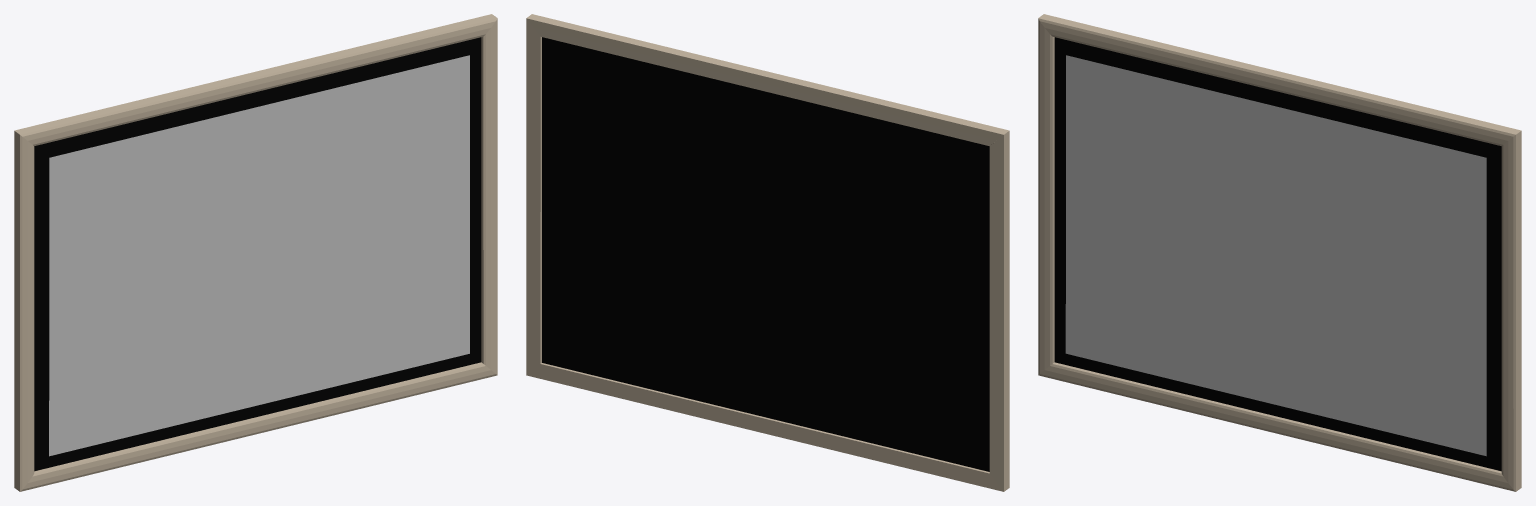
File: EtretatFrame.obj
3 renders of one model, left to right at view 1: azimuth 30°, elevation 25°; view 2: azimuth 150°, elevation 25°; view 3: azimuth 330°, elevation 25°, orthographic.
Visible parts, largest first — view 1: Photo_Cube, MetalFrame_Cylinder, Frame_Black; view 2: Frame_Black, MetalFrame_Cylinder; view 3: Photo_Cube, MetalFrame_Cylinder, Frame_Black.
Part boxes in pixels (x1,y1,x2,y2): Photo_Cube: [49, 55, 469, 456]; MetalFrame_Cylinder: [14, 14, 497, 491]; Frame_Black: [34, 37, 481, 471]; Frame_Black: [542, 37, 989, 471]; MetalFrame_Cylinder: [526, 14, 1009, 491]; Photo_Cube: [1065, 55, 1486, 456]; MetalFrame_Cylinder: [1038, 14, 1521, 491]; Frame_Black: [1054, 37, 1501, 471].
Size of the model in its own units: 67 by 47.86 by 1.6.
